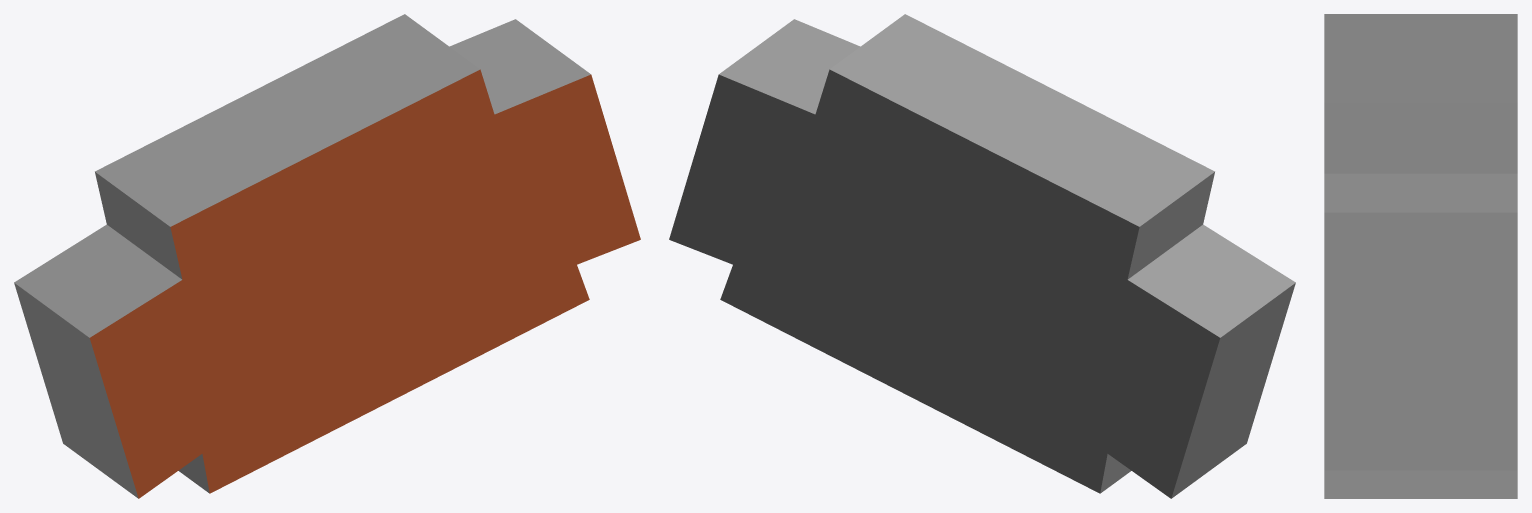
Rendered from construction_6788_assumed_A_Casa_h6m.obj.
The picture shows the model from 3 angles, left to right: view 1: azimuth 30°, elevation 25°; view 2: azimuth 150°, elevation 25°; view 3: azimuth 270°, elevation 25°; orthographic projection. The views are drawn at different scales.
Parts seen in each view (by area): view 1: construction_6788_assumed_A_Casa; view 2: construction_6788_assumed_A_Casa; view 3: construction_6788_assumed_A_Casa.
Boxes of the visible parts, left/top/right/bottom form: construction_6788_assumed_A_Casa: left=14, top=14, right=640, bottom=498; construction_6788_assumed_A_Casa: left=669, top=14, right=1295, bottom=498; construction_6788_assumed_A_Casa: left=1324, top=14, right=1517, bottom=498.
Size of the model in its own units: 25.25 by 15.69 by 6.
